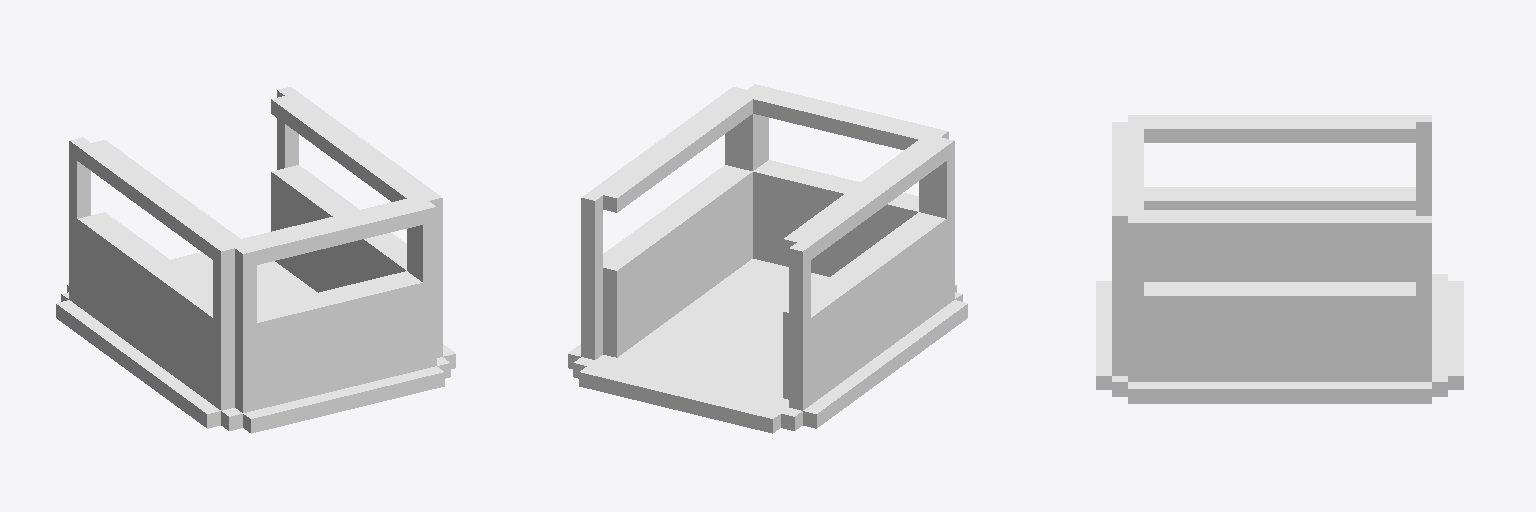
The model's file is little_hospital_bed.obj.
3 renders of one model, left to right at view 1: azimuth 30°, elevation 25°; view 2: azimuth 150°, elevation 25°; view 3: azimuth 270°, elevation 25°, orthographic.
Parts seen in each view (by area): view 1: object 1; view 2: object 1; view 3: object 1.
Boxes of the visible parts, x1,y1,x2,y2 form: object 1: [56, 87, 455, 433]; object 1: [568, 84, 967, 433]; object 1: [1096, 115, 1463, 403].
Bounding box in the file's own units: 1.8 × 1.2 × 2.3.